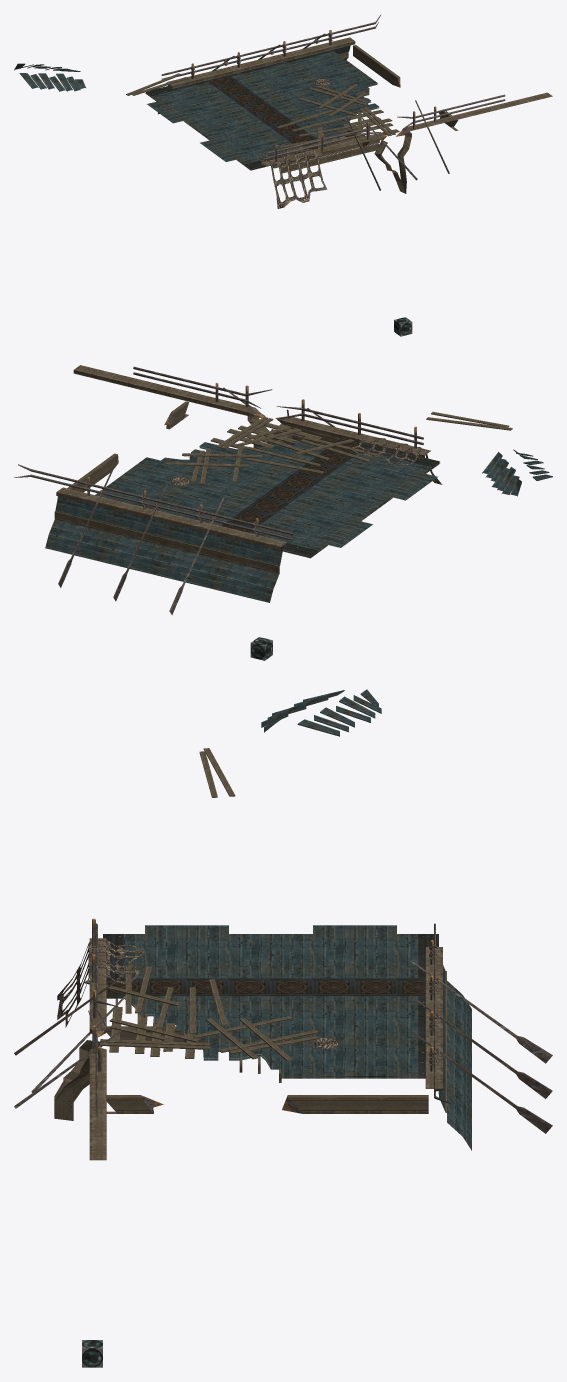
File: MDL_MiddleShipDeck1.obj
3 views of the same model, one above another, from view 1: azimuth 30°, elevation 25°; view 2: azimuth 150°, elevation 25°; view 3: azimuth 270°, elevation 25° (orthographic). The views are drawn at different scales.
Parts seen in each view (by area): view 1: p07g00, p87g00, p01g00, p62g00, p03g00, p61g00, p67g00, p93g00, p06g00, p04g00; view 2: p07g00, p02g00, p00g00, p06g00, p04g00, p03g00, p01g00, p62g00, p93g00, p87g00, p05g00, p92g00 (+3 smaller); view 3: p07g00, p62g00, p00g00, p02g00, p87g00, p61g00, p93g00, p04g00, p06g00, p01g00, p03g00.
Boxes of the visible parts, bbox=[...] form: p07g00: bbox=[146, 50, 378, 168]; p87g00: bbox=[257, 146, 327, 208]; p01g00: bbox=[258, 37, 355, 66]; p62g00: bbox=[353, 45, 458, 130]; p03g00: bbox=[166, 60, 263, 88]; p61g00: bbox=[374, 132, 411, 193]; p67g00: bbox=[281, 143, 379, 173]; p93g00: bbox=[147, 101, 237, 161]; p06g00: bbox=[261, 134, 387, 166]; p04g00: bbox=[456, 92, 552, 118]; p07g00: bbox=[95, 438, 439, 556]; p02g00: bbox=[157, 524, 282, 602]; p00g00: bbox=[45, 496, 170, 575]; p06g00: bbox=[275, 416, 430, 458]; p04g00: bbox=[73, 365, 192, 400]; p03g00: bbox=[168, 515, 287, 550]; p01g00: bbox=[56, 487, 174, 523]; p62g00: bbox=[67, 401, 189, 492]; p93g00: bbox=[327, 473, 437, 547]; p87g00: bbox=[351, 436, 442, 484]; p05g00: bbox=[186, 392, 264, 418]; p92g00: bbox=[250, 637, 272, 660]; p07g00: bbox=[103, 933, 438, 1075]; p62g00: bbox=[106, 1095, 428, 1113]; p00g00: bbox=[438, 1036, 471, 1150]; p02g00: bbox=[443, 965, 471, 1079]; p87g00: bbox=[57, 939, 143, 1027]; p61g00: bbox=[54, 1040, 102, 1120]; p93g00: bbox=[145, 925, 396, 933]; p04g00: bbox=[89, 1089, 106, 1160]; p06g00: bbox=[89, 938, 106, 1036]; p01g00: bbox=[425, 1018, 442, 1088]; p03g00: bbox=[425, 947, 442, 1017].
Bounding box in the file's own units: 1264 × 747 × 821.
14 materials, 13 textured.
